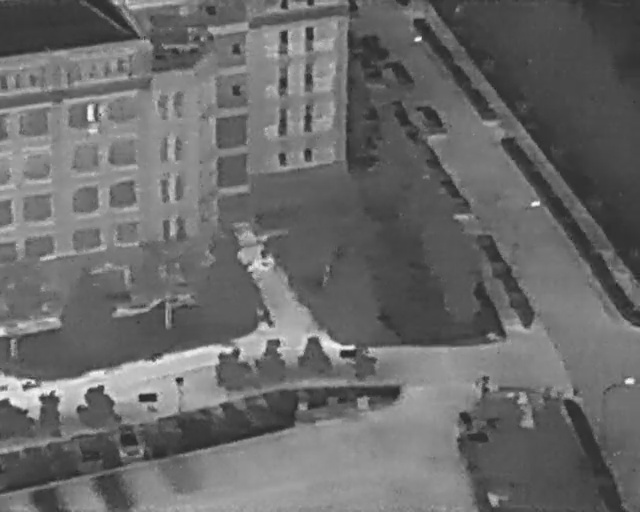Bicycle: (19, 377, 43, 393)
Car: (411, 97, 450, 144), (112, 420, 147, 464), (71, 430, 107, 471), (388, 56, 417, 91)
